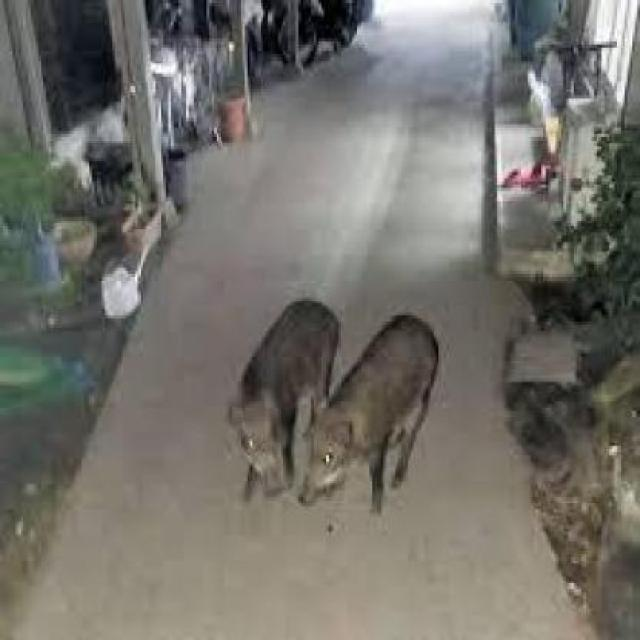wildboar: (293, 308, 442, 514), (228, 295, 342, 510)
